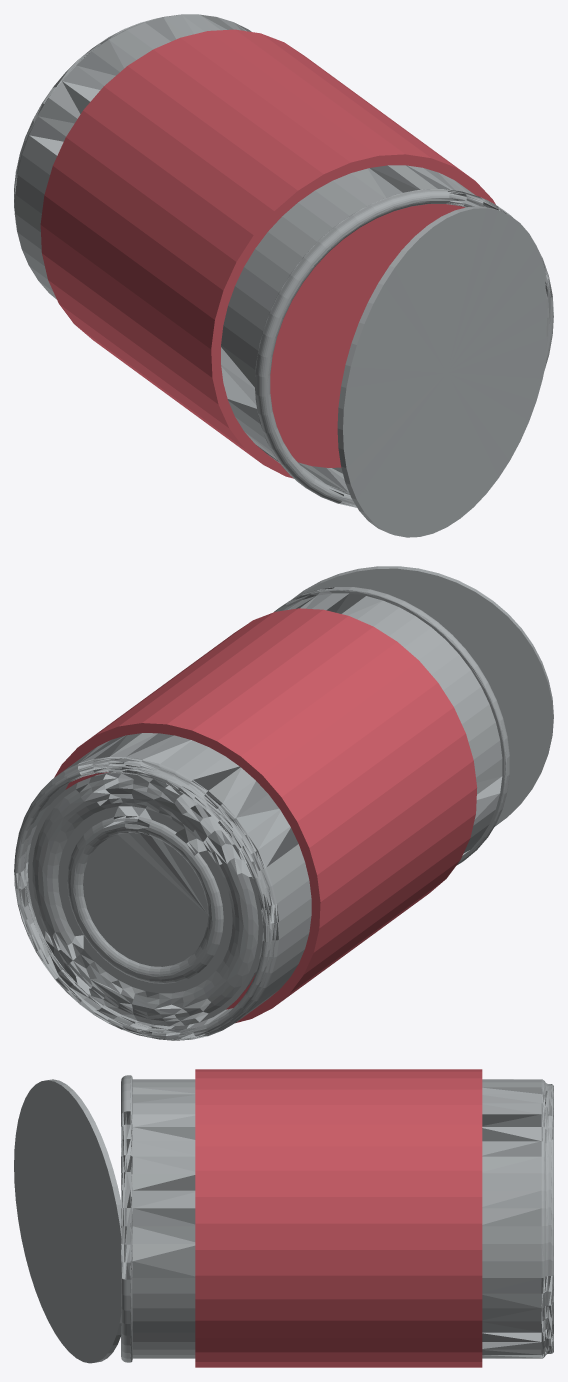
The model's file is food_can_empty_model.glb.
3 views of the same model, one above another, from view 1: azimuth 30°, elevation 25°; view 2: azimuth 150°, elevation 25°; view 3: azimuth 270°, elevation 25° (orthographic). The views are drawn at different scales.
Parts seen in each view (by area): view 1: obj_1, obj_2, obj_0; view 2: obj_0, obj_1, obj_2; view 3: obj_1, obj_0, obj_2.
Boxes of the visible parts, x1,y1,x2,y2 form: obj_1: (40,29,495,478); obj_2: (337,206,546,537); obj_0: (14,14,553,507); obj_0: (14,587,509,1040); obj_1: (54,608,477,1023); obj_2: (291,566,553,826); obj_1: (195,1069,482,1367); obj_0: (121,1075,553,1362); obj_2: (14,1079,121,1363).
Bounding box in the file's own units: 5.19 × 5.19 × 9.41.
